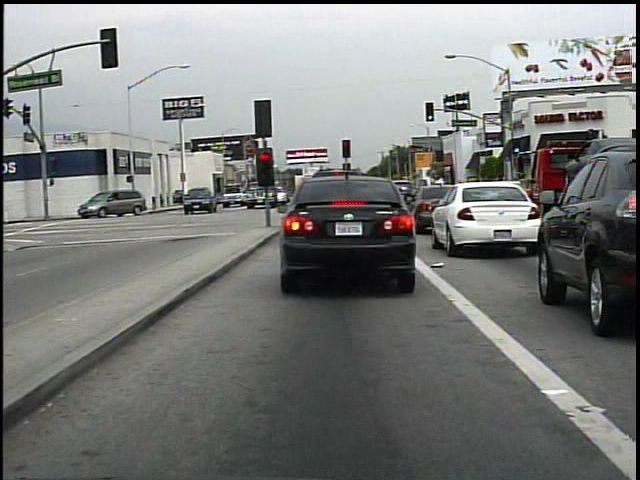person: (195, 182, 217, 208)
